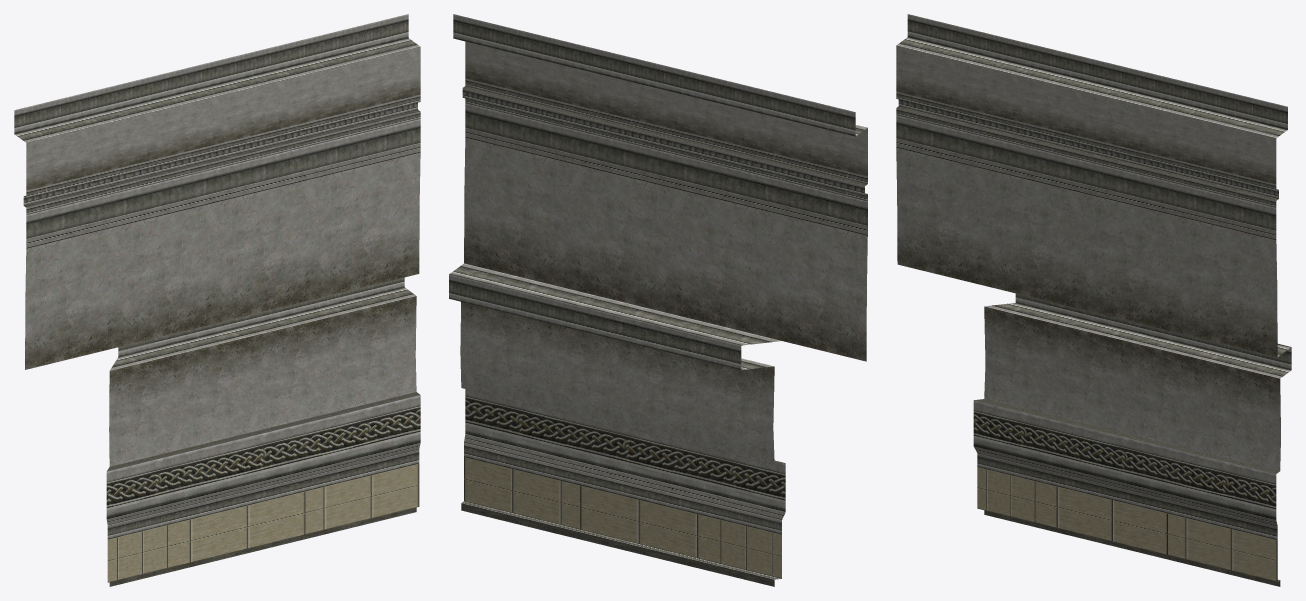
Rendered from DWARF_PALACE_GEAR_ROOM_WALL02B.fbx.
The picture shows the model from 3 angles, left to right: view 1: azimuth 30°, elevation 25°; view 2: azimuth 150°, elevation 25°; view 3: azimuth 330°, elevation 25°; orthographic projection. The views are drawn at different scales.
Parts seen in each view (by area): view 1: DWARF_PALACE_GEAR_ROOM_WALL02B; view 2: DWARF_PALACE_GEAR_ROOM_WALL02B; view 3: DWARF_PALACE_GEAR_ROOM_WALL02B.
Part boxes in pixels (left/top/right/bottom): DWARF_PALACE_GEAR_ROOM_WALL02B: left=14, top=14, right=420, bottom=586; DWARF_PALACE_GEAR_ROOM_WALL02B: left=449, top=14, right=867, bottom=586; DWARF_PALACE_GEAR_ROOM_WALL02B: left=896, top=14, right=1291, bottom=586.
Bounding box in the file's own units: 171850 × 205000 × 12001.
Materials: 7 (7 with a texture image).
